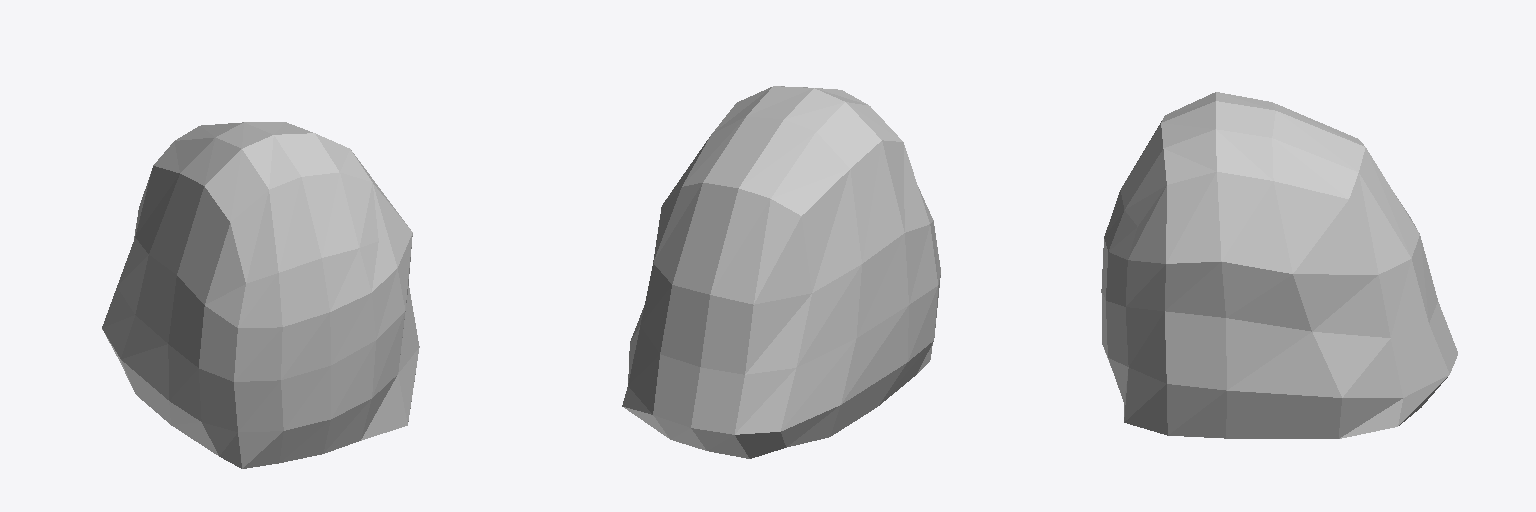
File: LargeRock.obj
The picture shows the model from 3 angles: view 1: azimuth 30°, elevation 25°; view 2: azimuth 150°, elevation 25°; view 3: azimuth 270°, elevation 25°; orthographic projection.
Parts seen in each view (by area): view 1: BigRock; view 2: BigRock; view 3: BigRock.
Boxes of the visible parts, x1,y1,x2,y2 form: BigRock: [102, 122, 419, 468]; BigRock: [622, 86, 940, 458]; BigRock: [1101, 92, 1457, 438].
Size of the model in its own units: 4.49 by 5.55 by 6.07.